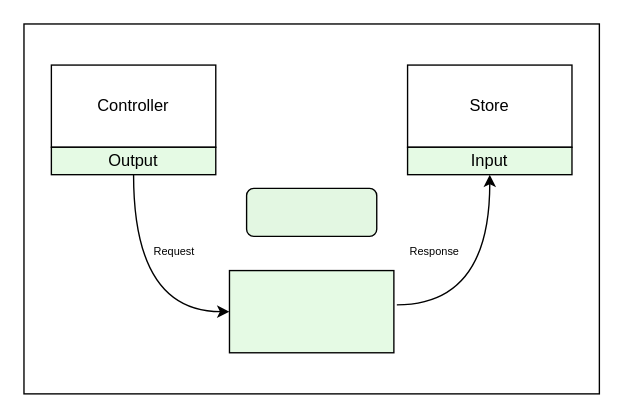
The diagram is 623 pixels wide and 418 high, and some of its shapes have lost their labels. Each missing label, with the box of its shape:
Interactor: (228, 269, 394, 353)
UseCase: (245, 187, 377, 236)
